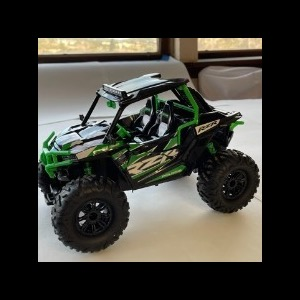polaris: (39, 73, 261, 254)
